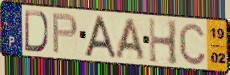A: (83, 15, 119, 61), (113, 16, 147, 62)
C: (177, 21, 207, 67)
D: (23, 9, 50, 54)
H: (147, 16, 180, 67)
P: (51, 12, 79, 55)
